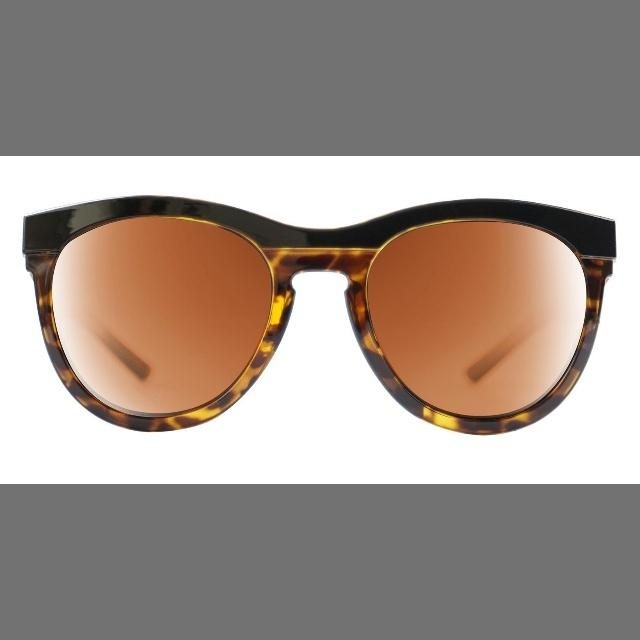Sunglasses: (10, 182, 622, 450)
